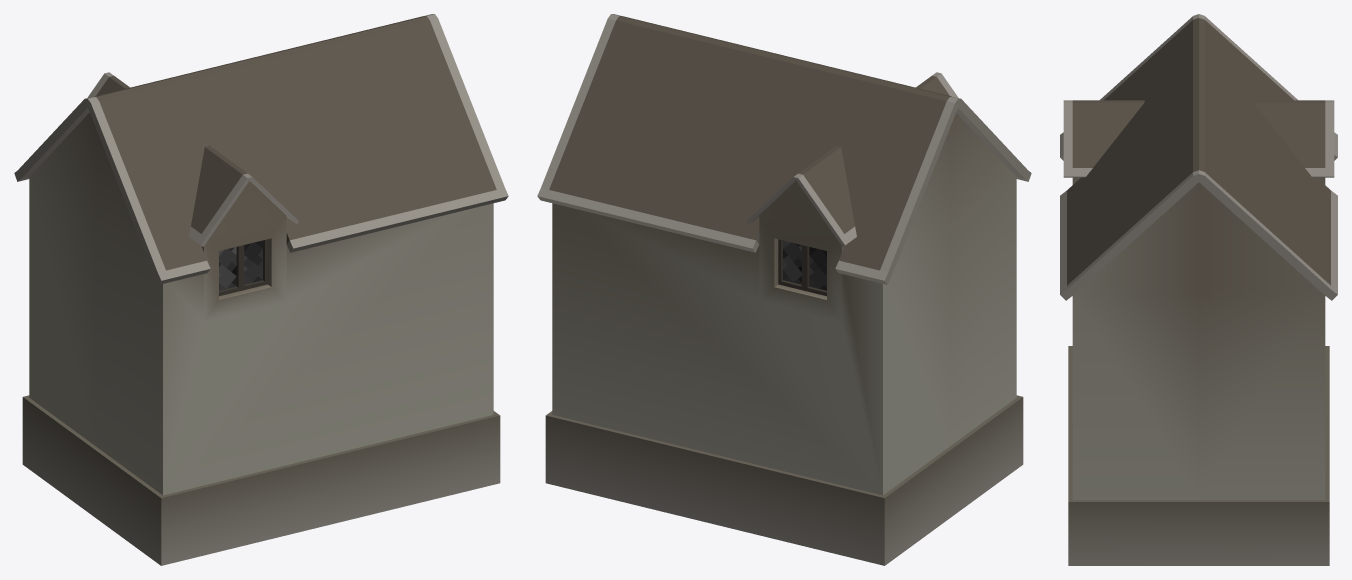
File: Base-2Floor_C.fbx
3 renders of one model, left to right at view 1: azimuth 30°, elevation 25°; view 2: azimuth 150°, elevation 25°; view 3: azimuth 270°, elevation 25°, orthographic. The views are drawn at different scales.
Parts seen in each view (by area): view 1: Base-2Floor_C; view 2: Base-2Floor_C; view 3: Base-2Floor_C.
Part boxes in pixels (box(x1,y1,x2,y2)): Base-2Floor_C: box(14, 14, 508, 565); Base-2Floor_C: box(537, 14, 1031, 565); Base-2Floor_C: box(1060, 14, 1337, 565).
Size of the model in its own units: 1050 by 1206 by 771.
